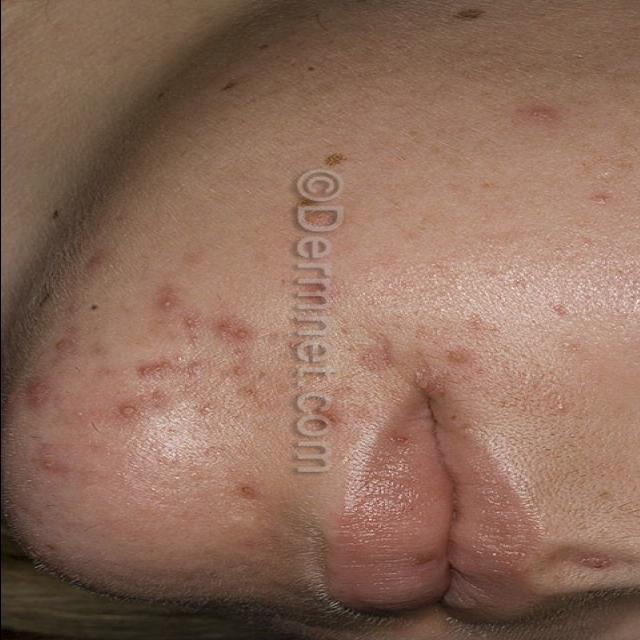Acne: (358, 337, 398, 372), (208, 318, 261, 342), (519, 102, 563, 127), (128, 358, 178, 380), (571, 552, 617, 574), (34, 445, 70, 473), (108, 398, 148, 422), (437, 346, 479, 368), (229, 481, 265, 504), (152, 288, 186, 312), (24, 380, 50, 411), (582, 187, 617, 210), (49, 334, 80, 358), (82, 255, 110, 275)
